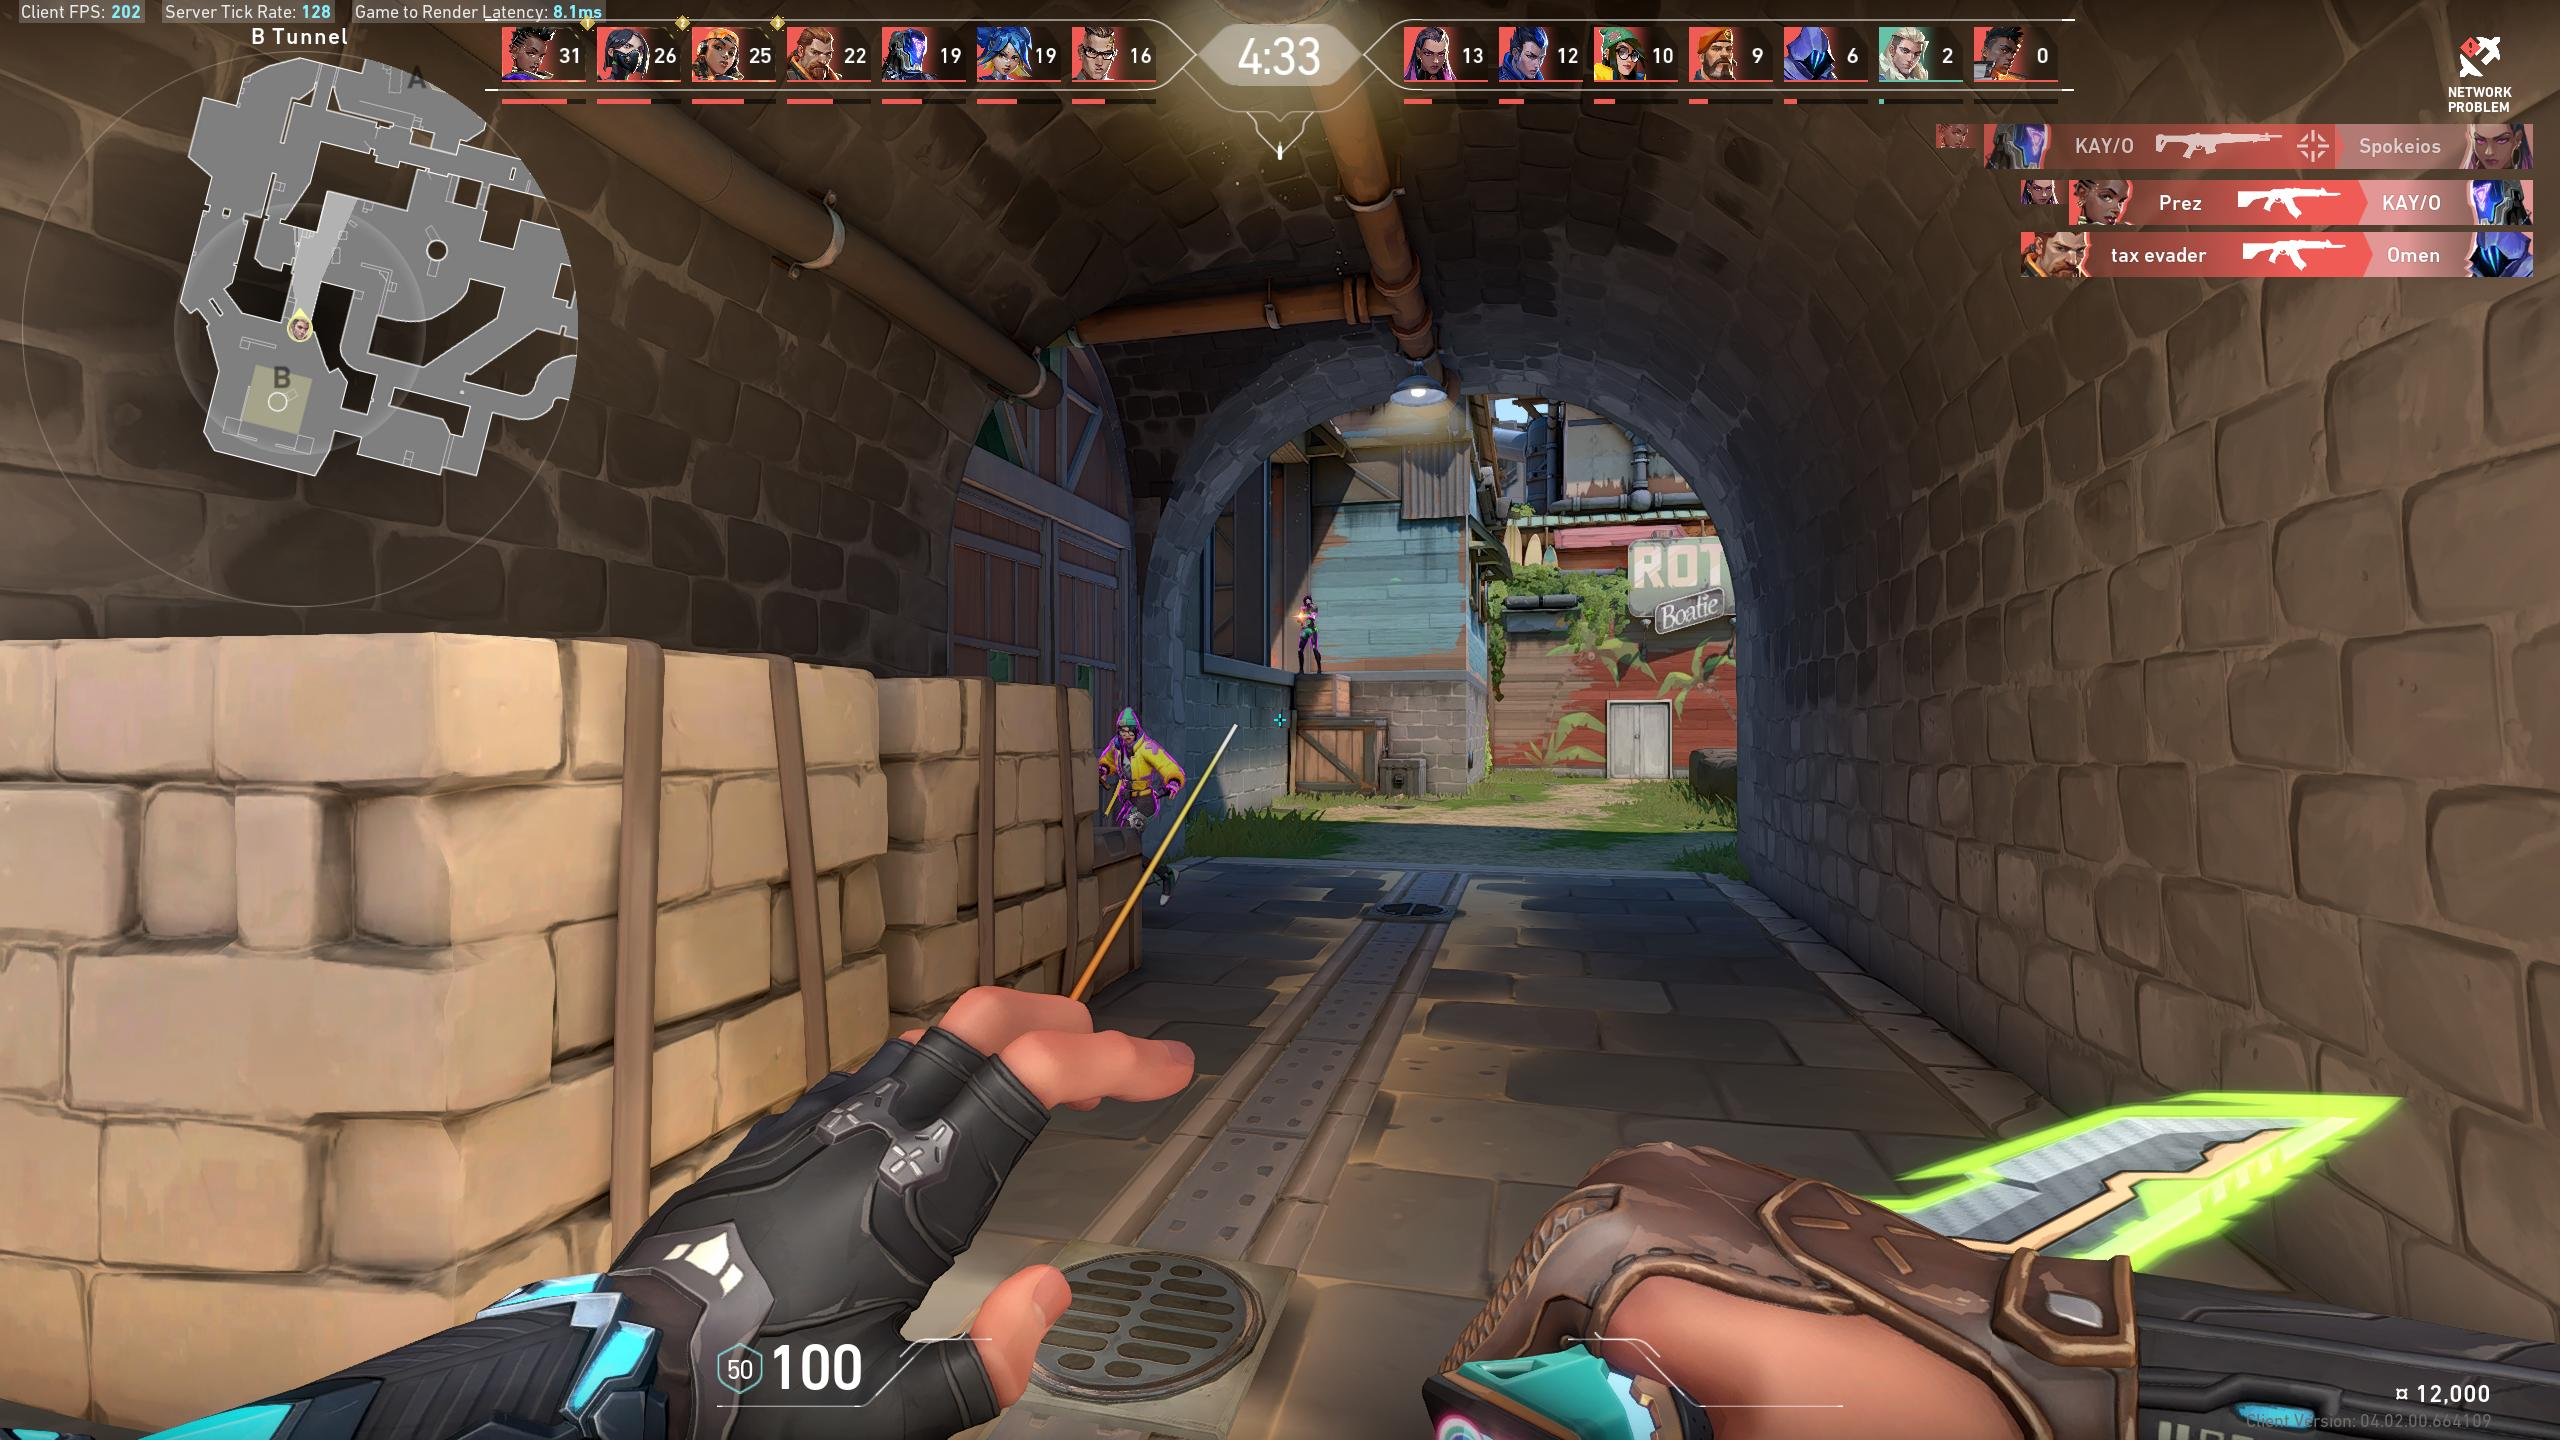enemyBody: (1116, 751, 1150, 788), (1303, 608, 1313, 631)
enemyHead: (1124, 728, 1132, 740), (1306, 600, 1312, 605)
